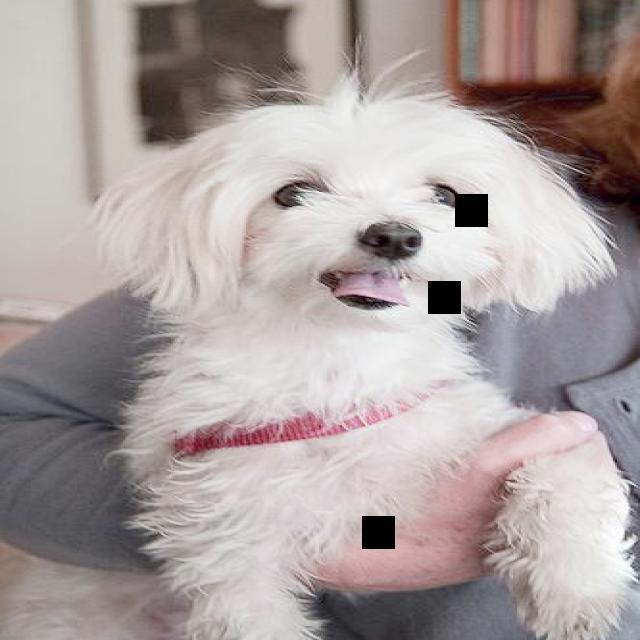adult_dog: (15, 75, 634, 640)
